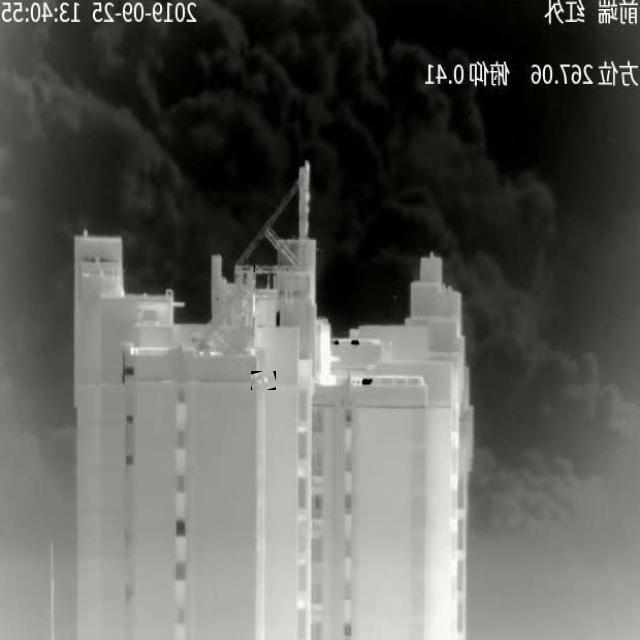drone: (251, 373, 274, 390)
